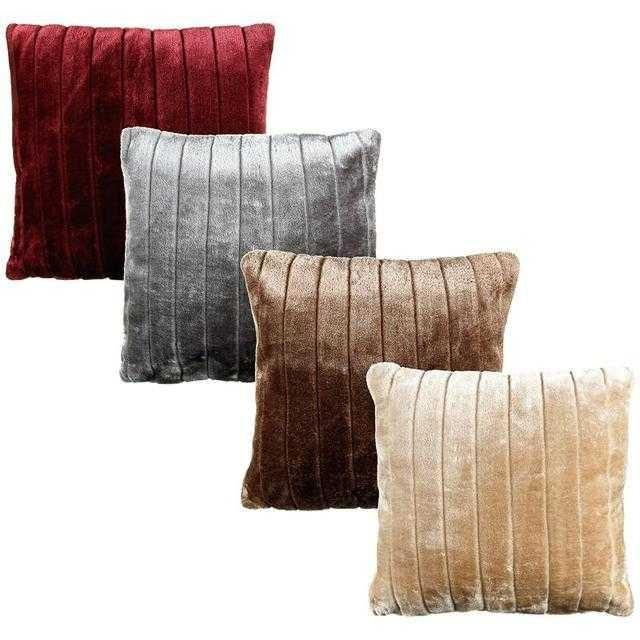pillow: (240, 247, 520, 511), (4, 21, 276, 280), (366, 359, 634, 616), (118, 124, 382, 384)
